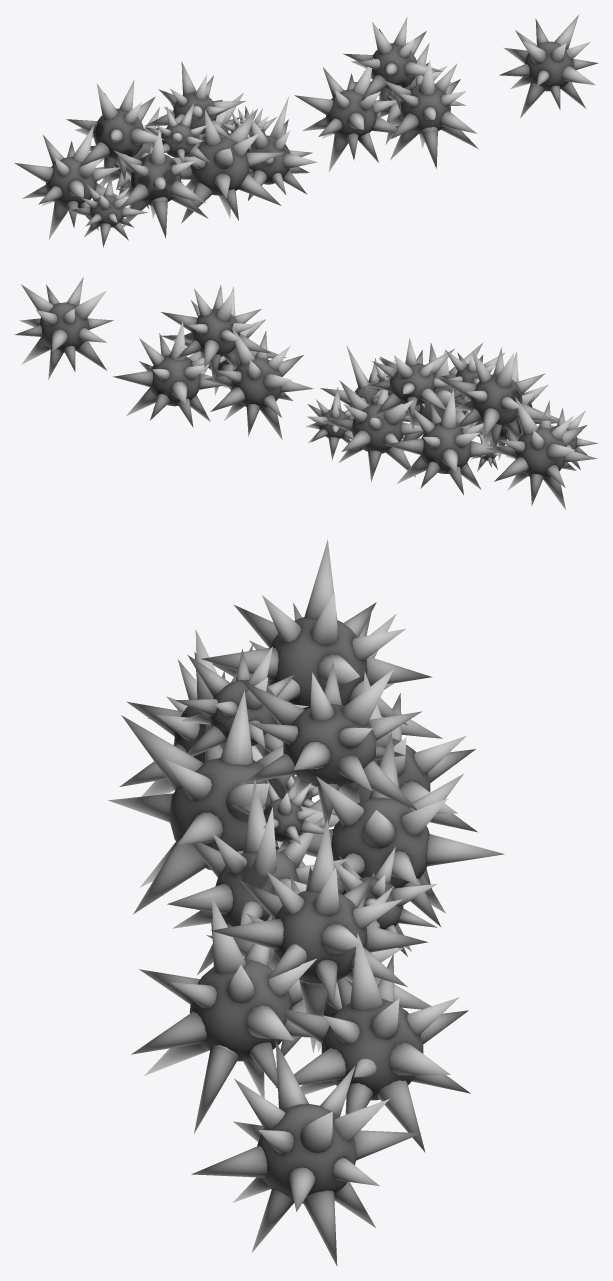
Rendered from spikeball.glb.
The picture shows the model from 3 angles, top to bottom: view 1: azimuth 30°, elevation 25°; view 2: azimuth 150°, elevation 25°; view 3: azimuth 270°, elevation 25°; orthographic projection. The views are drawn at different scales.
Parts seen in each view (by area): view 1: spikeBallLarge, spikeBallSmall, spikeBallSingle; view 2: spikeBallLarge, spikeBallSmall, spikeBallSingle; view 3: spikeBallLarge, spikeBallSmall, spikeBallSingle.
Boxes of the visible parts, x1,y1,x2,y2 form: spikeBallLarge: (14,61,317,247); spikeBallSmall: (294,17,478,172); spikeBallSingle: (499,15,598,118); spikeBallLarge: (305,337,598,509); spikeBallSmall: (112,285,313,439); spikeBallSingle: (14,277,113,379); spikeBallLarge: (108,539,504,974); spikeBallSmall: (131,819,470,1152); spikeBallSingle: (191,1041,421,1266).
Bounding box in the file's own units: 2.89 × 0.7154 × 0.8793.
Materials: 1 (1 with a texture image).
